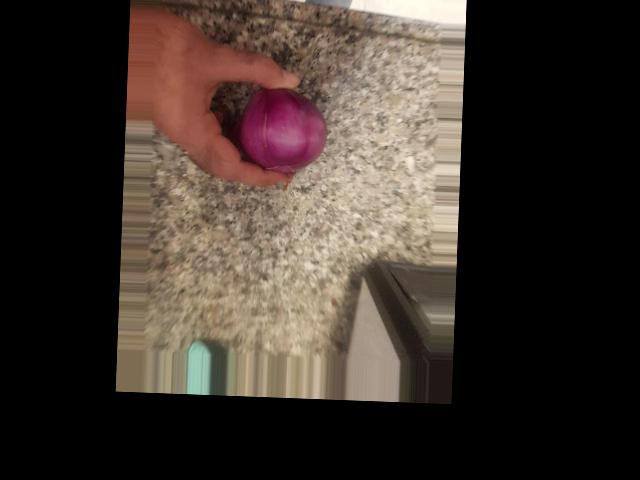onion: (336, 159, 424, 245)
